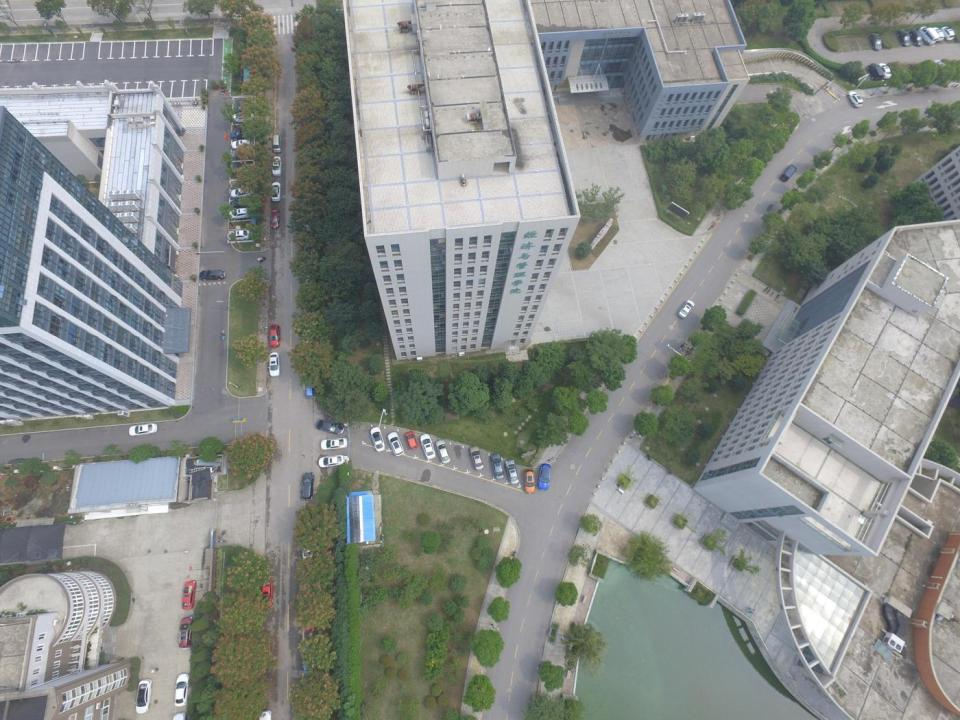car: (135, 679, 153, 714), (174, 673, 190, 707), (182, 580, 197, 610), (178, 617, 193, 647), (386, 432, 404, 457), (260, 577, 274, 609), (370, 426, 386, 452), (420, 434, 436, 459), (316, 420, 344, 434), (128, 423, 157, 436), (490, 453, 504, 479), (505, 459, 519, 485), (436, 439, 450, 464), (302, 647, 315, 673), (318, 455, 344, 468), (523, 468, 536, 494), (320, 438, 348, 450), (470, 446, 484, 470), (538, 463, 550, 490), (678, 299, 695, 318), (268, 352, 280, 377), (304, 605, 315, 632), (199, 269, 225, 280), (909, 28, 924, 47), (868, 63, 884, 80), (897, 28, 911, 47), (269, 324, 280, 348), (847, 91, 863, 107), (933, 59, 949, 75), (302, 535, 313, 558), (231, 129, 253, 140), (231, 188, 253, 199), (227, 230, 251, 240), (231, 139, 252, 150), (406, 431, 418, 450), (870, 32, 882, 51), (909, 62, 924, 77), (878, 63, 892, 79), (235, 112, 255, 123), (230, 198, 252, 208), (271, 156, 282, 176), (230, 209, 250, 220), (270, 208, 281, 228), (305, 377, 315, 399), (232, 149, 253, 159), (271, 182, 281, 202), (236, 103, 258, 112)
van: (920, 26, 940, 46), (302, 472, 314, 499), (780, 165, 797, 182), (941, 26, 954, 41), (272, 134, 281, 153), (933, 27, 944, 42)
